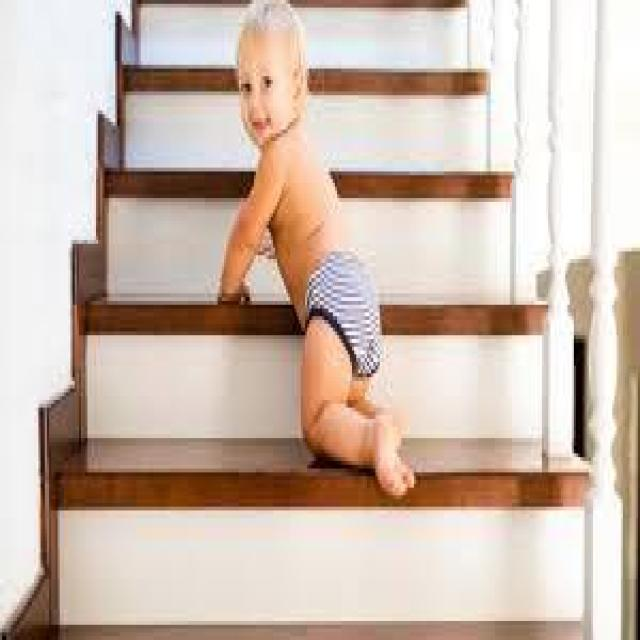child: (215, 4, 422, 522)
